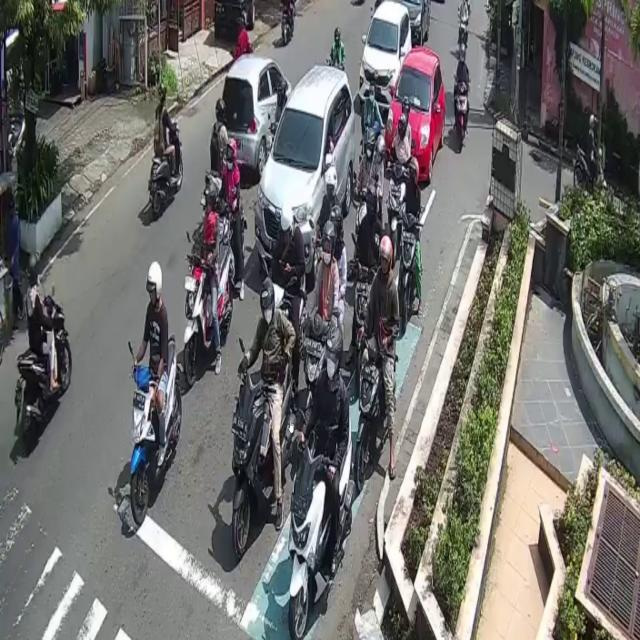car: (255, 63, 356, 273), (223, 54, 292, 178), (386, 46, 446, 180), (358, 1, 412, 118), (399, 0, 430, 52)
motorbike: (289, 411, 354, 640), (233, 360, 295, 559), (130, 332, 182, 527), (15, 296, 71, 454), (181, 240, 231, 385), (359, 343, 399, 489), (150, 120, 183, 218), (397, 212, 418, 333), (577, 140, 603, 200), (454, 79, 468, 149)
